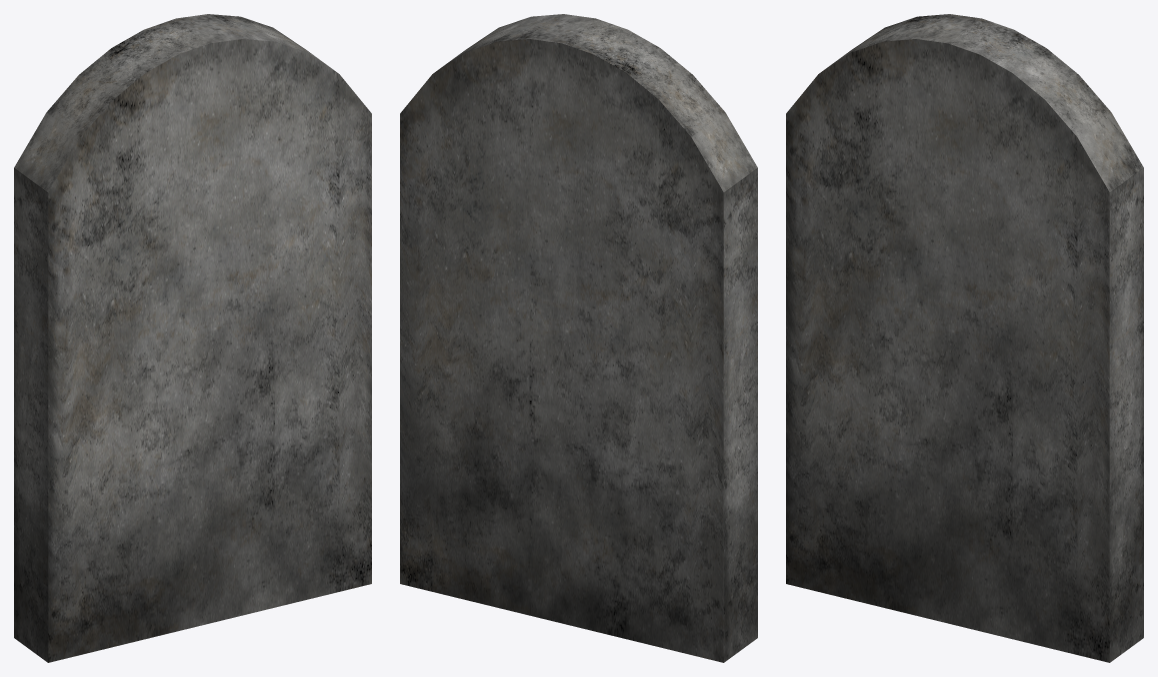
The model's file is nahrobek.fbx.
3 views of the same model, side by side, from view 1: azimuth 30°, elevation 25°; view 2: azimuth 150°, elevation 25°; view 3: azimuth 330°, elevation 25° (orthographic).
Parts seen in each view (by area): view 1: Cube; view 2: Cube; view 3: Cube.
Part boxes in pixels (x1,y1,x2,y2): Cube: [14, 14, 371, 662]; Cube: [400, 14, 757, 662]; Cube: [786, 14, 1143, 662].
Size of the model in its own units: 71.08 by 122 by 12.95.
1 material, 1 textured.
